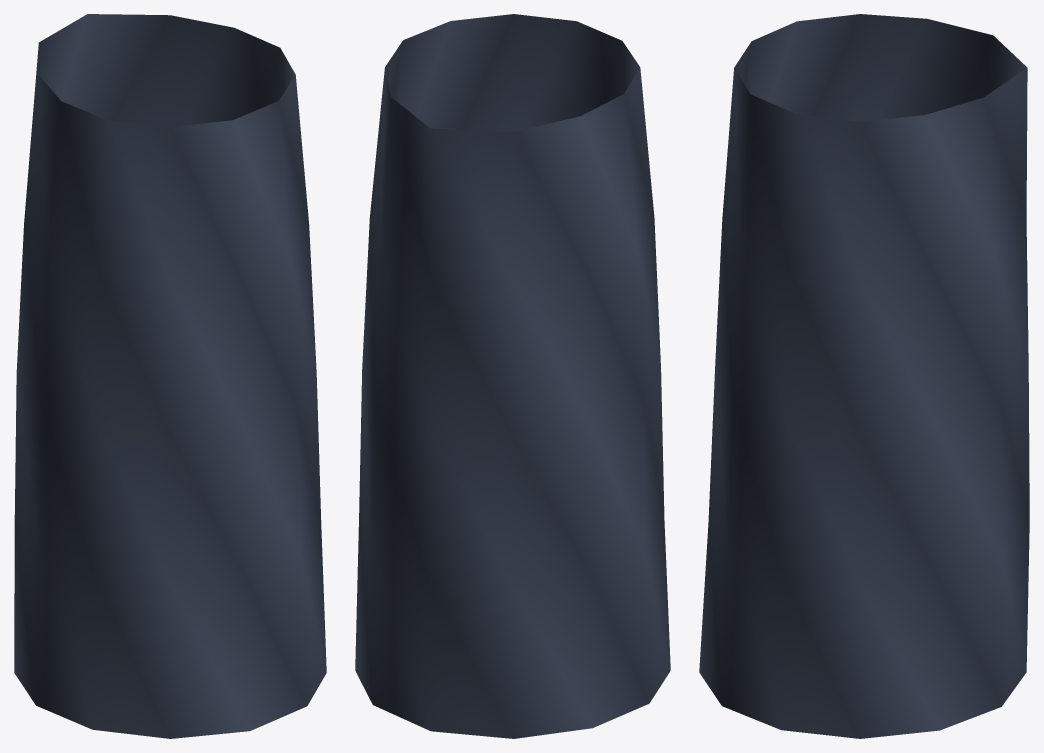
File: lead_armor_greave.R.glb
3 views of the same model, side by side, from view 1: azimuth 30°, elevation 25°; view 2: azimuth 150°, elevation 25°; view 3: azimuth 270°, elevation 25° (orthographic).
Visible parts, largest first — view 1: lead_armor_greave.R; view 2: lead_armor_greave.R; view 3: lead_armor_greave.R.
Part boxes in pixels (x1=…): lead_armor_greave.R: x1=14, y1=14, x2=326, y2=738; lead_armor_greave.R: x1=355, y1=14, x2=670, y2=738; lead_armor_greave.R: x1=699, y1=14, x2=1029, y2=738.
Bounding box in the file's own units: 0.1776 × 0.3767 × 0.1866.
